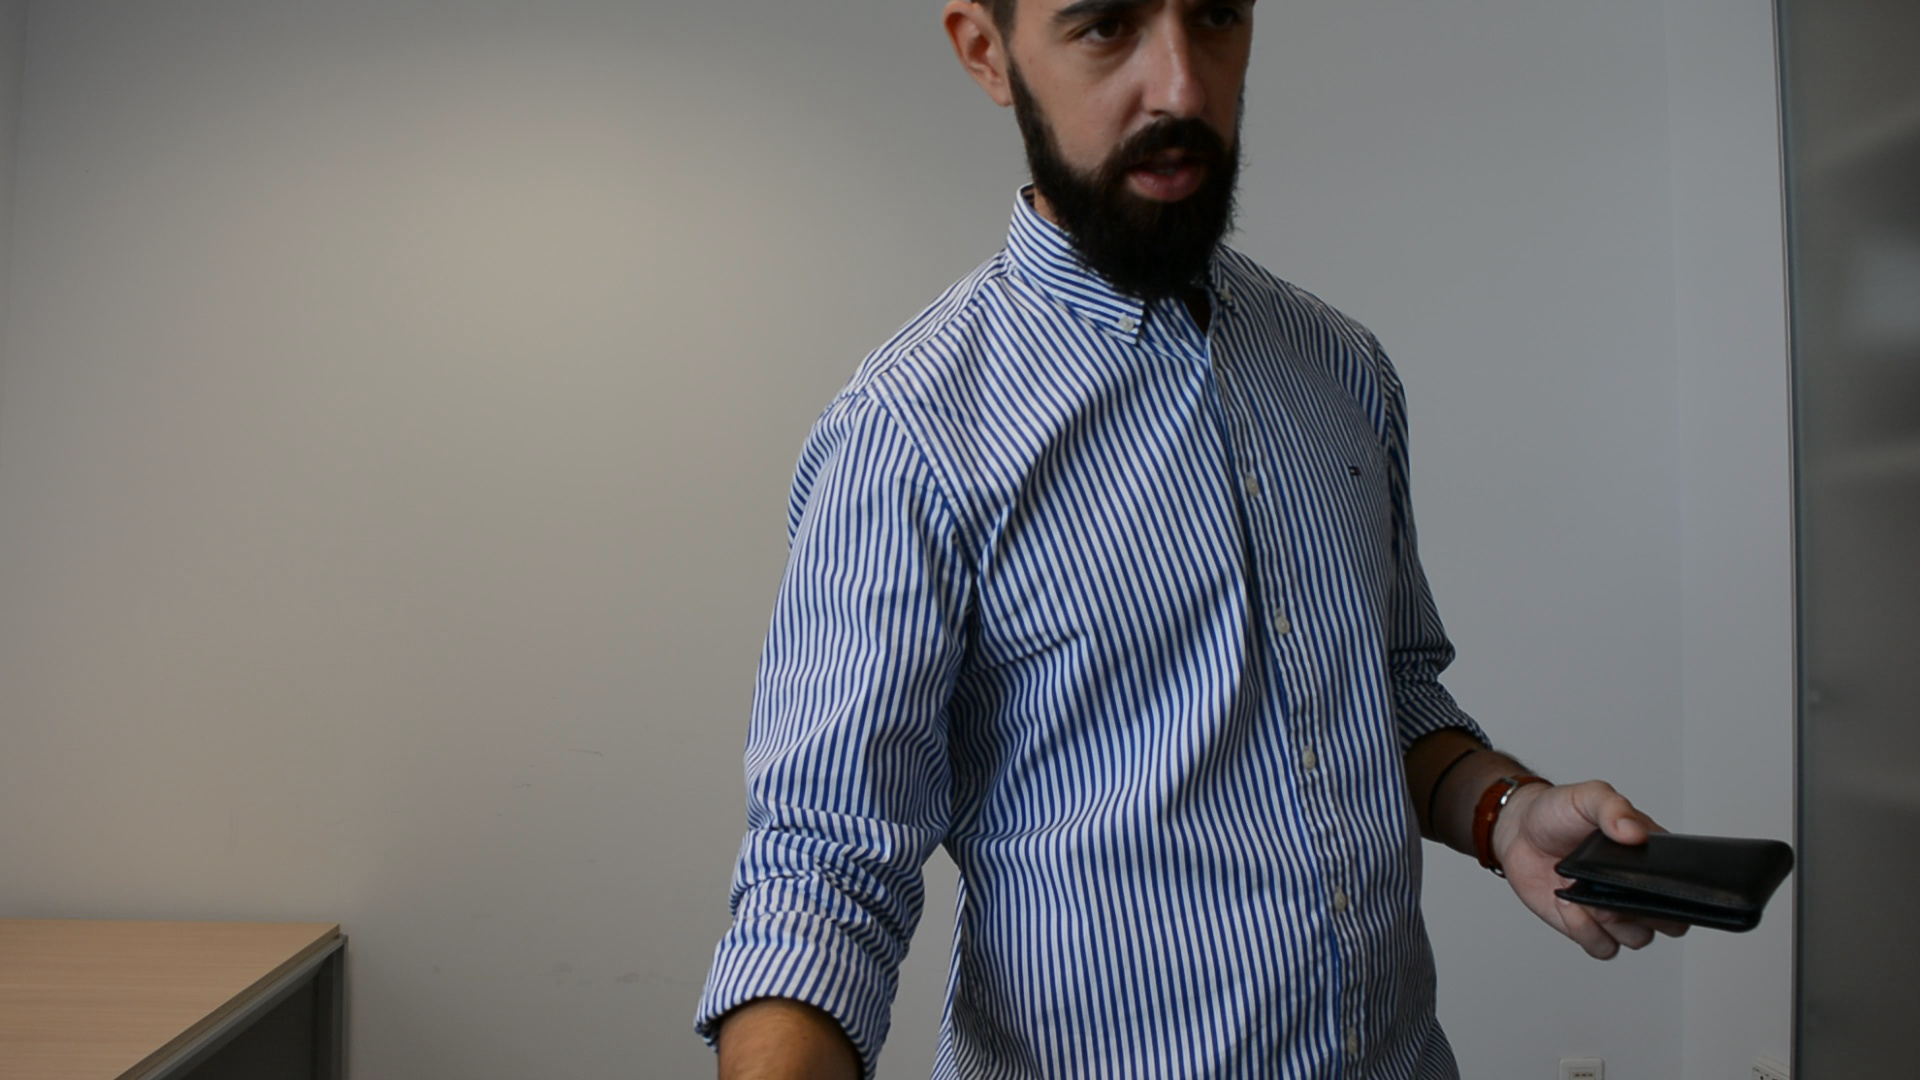monedero: (1549, 824, 1797, 936)
